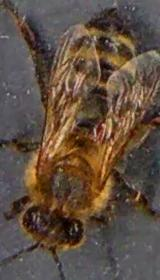varroa_mite: (90, 112, 116, 148)
